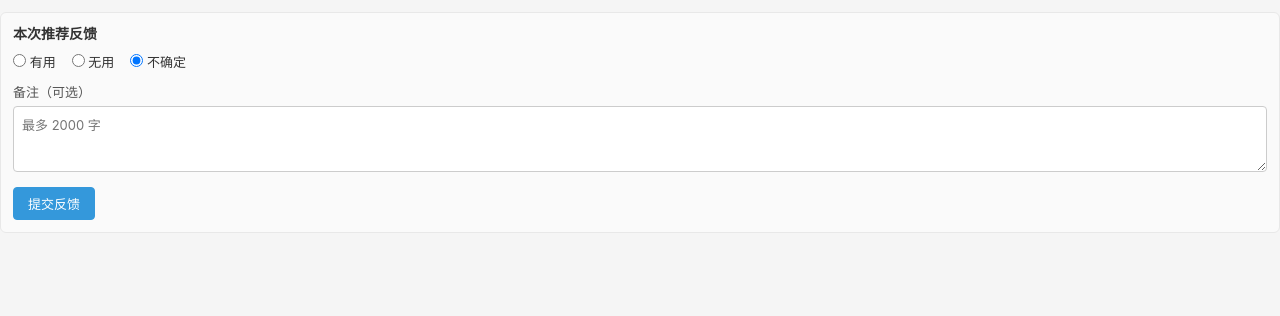
Test: FeedbackControls › 提交失败时展示错误提示
The image size is (1280, 316).
Click the button with test id "feedback-submit" at (54, 204), box [13,187,95,220]
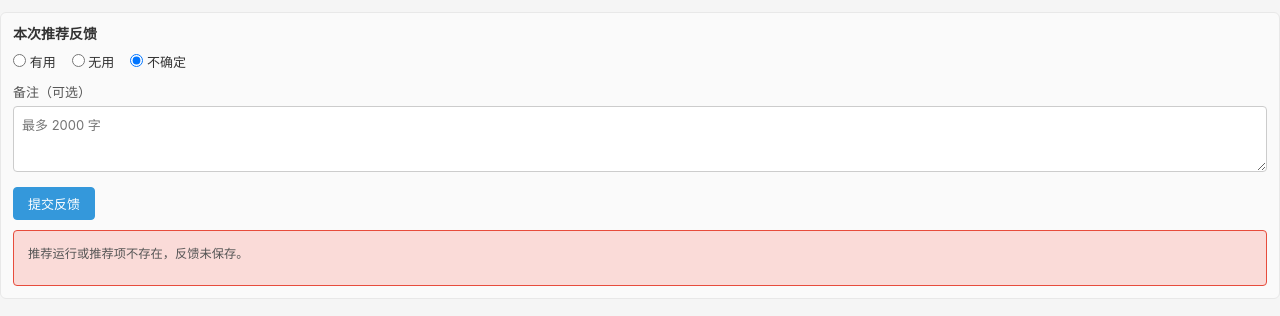
Check: the message "推荐运行或推荐项不存在，反馈未保存。" is shown, box [13,230,1267,286]
Check: the text "不存在" is shown, box [28,246,248,261]
